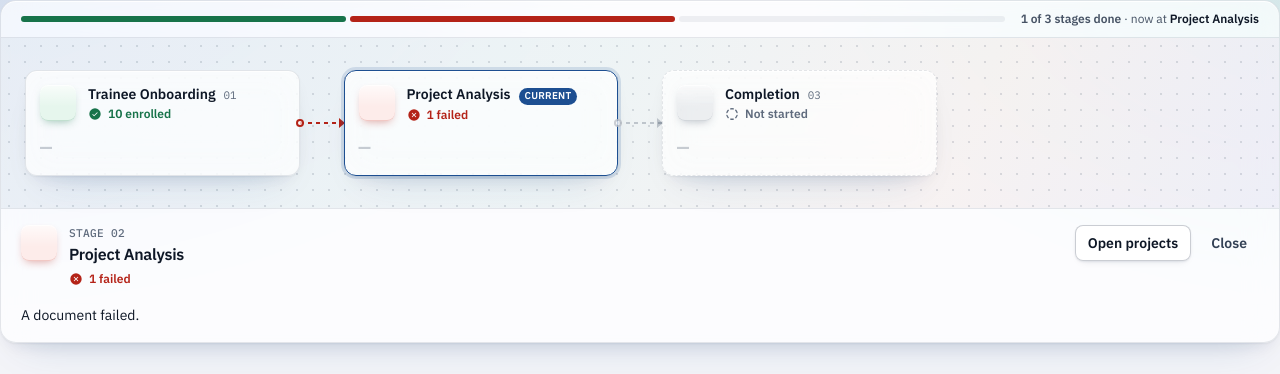
Test case: Pipeline › switches and closes the inspector
Click the button "Trainee Onboarding 01 10 enrolled —" at (162, 123), box [25,70,300,176]
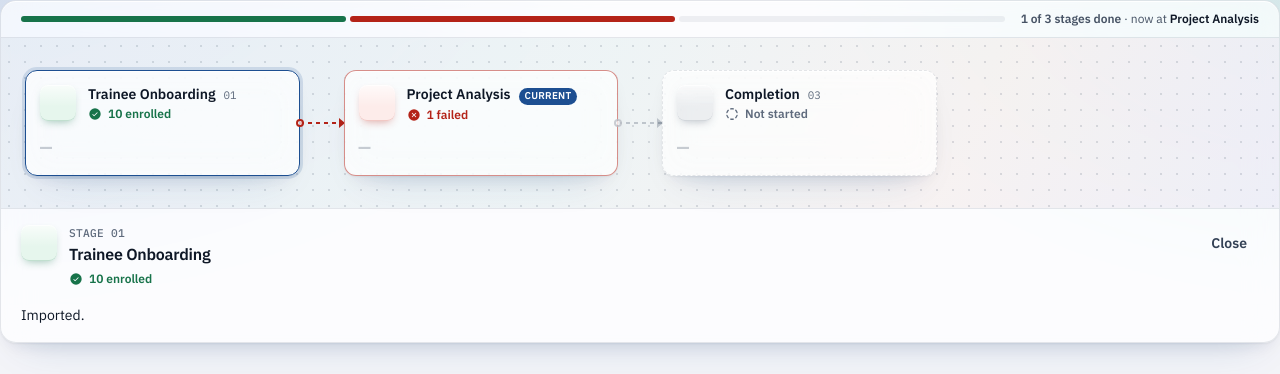
Check: the element named "Trainee Onboarding details" shows "Imported.", box [21,306,84,324]
Click the button "Close" at (1229, 243), box [1199,225,1259,261]
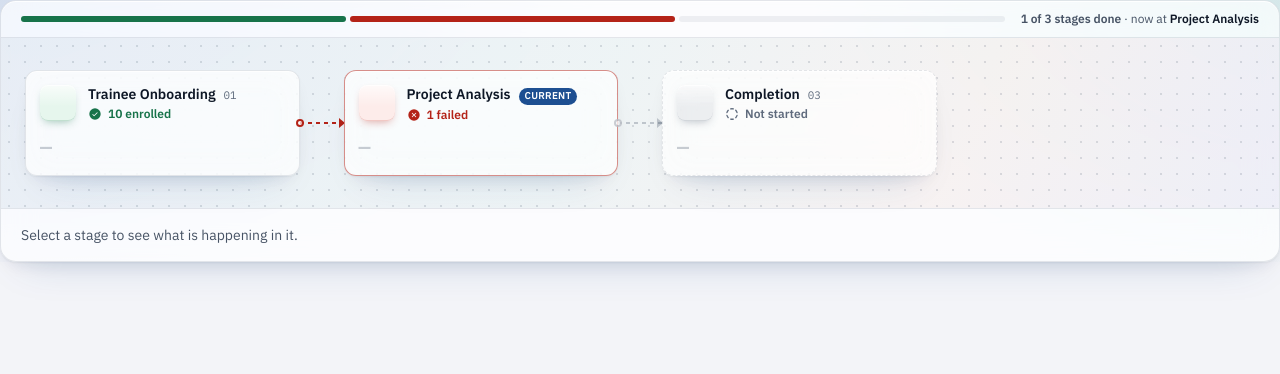
Check: the text "Select a stage to see what is happening in it." is shown, box [21,226,298,244]
